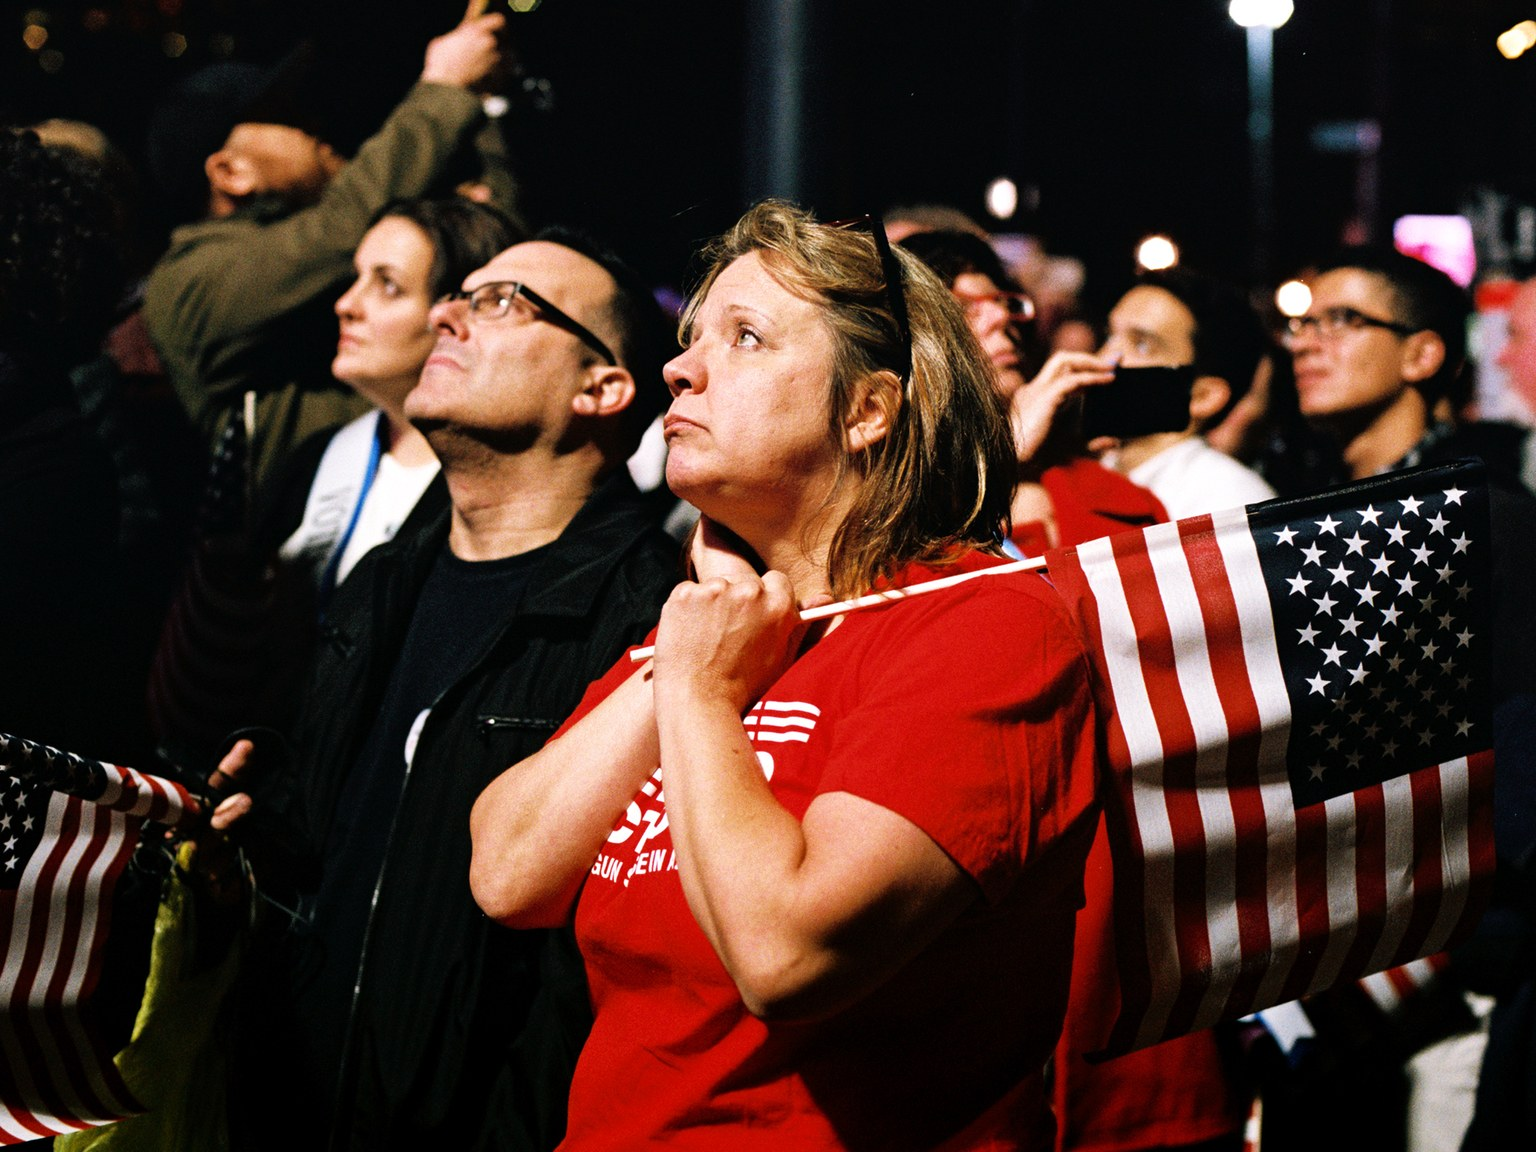sad: (656, 279, 871, 491)
